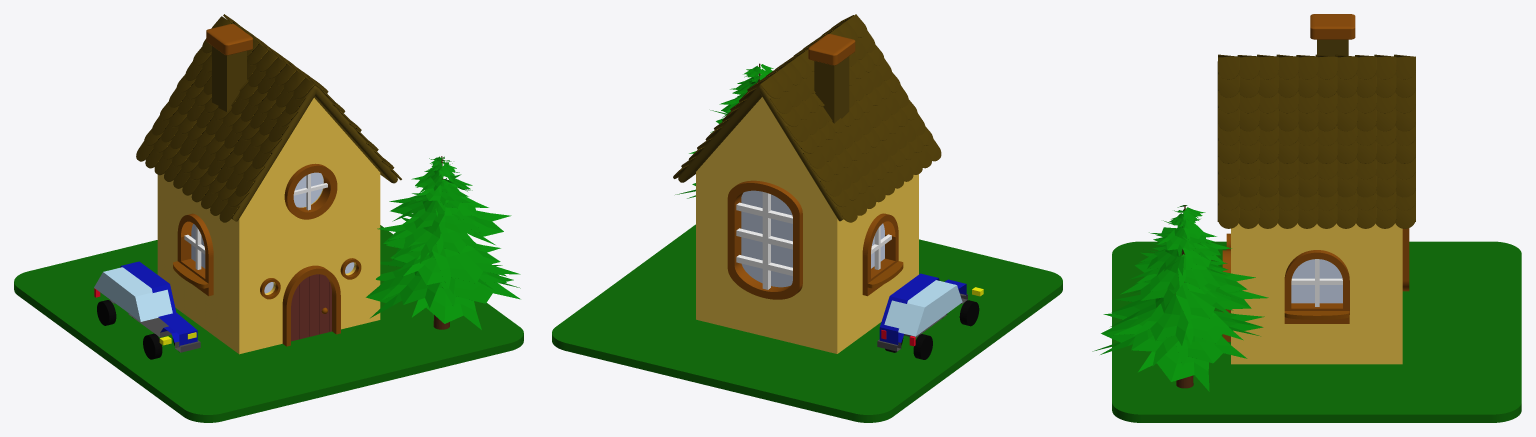
File: home.glb
The picture shows the model from 3 angles, left to right: view 1: azimuth 30°, elevation 25°; view 2: azimuth 150°, elevation 25°; view 3: azimuth 270°, elevation 25°; orthographic projection. The views are drawn at different scales.
Parts seen in each view (by area): view 1: Plane, Cube, Cube.107, Plane.005, Cube.001, Cube.141, Plane.001, Cube.117, Cube.002, Cube.004, Cube.136, Cube.247 (+5 smaller); view 2: Plane, Cube, Cube.107, Cube.001, Cube.146, Cube.150, Cube.141, Cube.004, Plane.001, Cube.136, Cube.247, Plane.005 (+1 smaller); view 3: Plane, Cube.247, Cube, Plane.005, Cube.003, Cube.148, Cube.136, Cube.001, Cube.132, Cube.146.
Part boxes in pixels (x1=…): Plane: x1=14, y1=225, x2=523, y2=422; Cube: x1=157, y1=98, x2=380, y2=354; Cube.107: x1=136, y1=16, x2=315, y2=222; Plane.005: x1=366, y1=156, x2=520, y2=329; Cube.001: x1=212, y1=45, x2=397, y2=221; Cube.141: x1=94, y1=267, x2=172, y2=321; Plane.001: x1=120, y1=261, x2=197, y2=346; Cube.117: x1=284, y1=163, x2=337, y2=219; Cube.002: x1=282, y1=265, x2=340, y2=346; Cube.004: x1=177, y1=213, x2=213, y2=287; Cube.136: x1=206, y1=24, x2=252, y2=55; Cube.247: x1=223, y1=14, x2=401, y2=180; Plane: x1=552, y1=224, x2=1062, y2=422; Cube: x1=696, y1=97, x2=918, y2=353; Cube.107: x1=760, y1=14, x2=941, y2=222; Cube.001: x1=678, y1=54, x2=849, y2=221; Cube.146: x1=727, y1=180, x2=802, y2=299; Cube.150: x1=741, y1=190, x2=792, y2=287; Cube.141: x1=884, y1=280, x2=962, y2=336; Cube.004: x1=862, y1=213, x2=898, y2=287; Plane.001: x1=879, y1=273, x2=966, y2=345; Cube.136: x1=808, y1=34, x2=855, y2=65; Cube.247: x1=673, y1=15, x2=853, y2=178; Plane.005: x1=675, y1=64, x2=773, y2=198; Plane: x1=1112, y1=241, x2=1521, y2=422; Cube.247: x1=1218, y1=56, x2=1415, y2=228; Cube: x1=1231, y1=223, x2=1402, y2=364; Plane.005: x1=1092, y1=205, x2=1268, y2=391; Cube.003: x1=1284, y1=250, x2=1349, y2=314; Cube.148: x1=1291, y1=259, x2=1342, y2=303; Cube.136: x1=1310, y1=14, x2=1355, y2=39; Cube.001: x1=1217, y1=39, x2=1415, y2=221; Cube.132: x1=1284, y1=311, x2=1349, y2=319; Cube.146: x1=1402, y1=228, x2=1409, y2=291.
Size of the model in its own units: 5 by 3.85 by 5.01.
